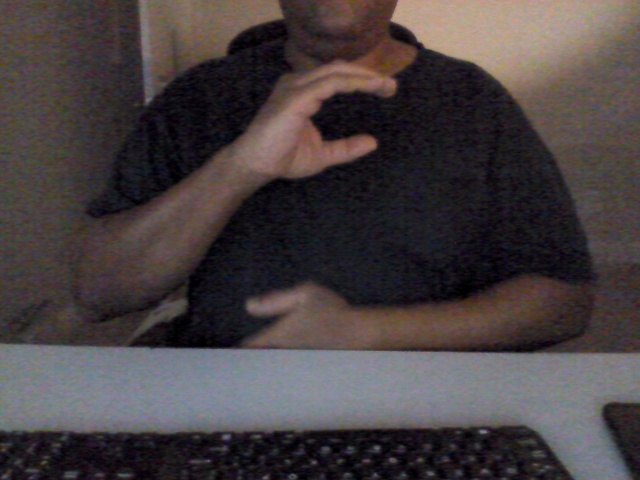police: (235, 57, 410, 189)
